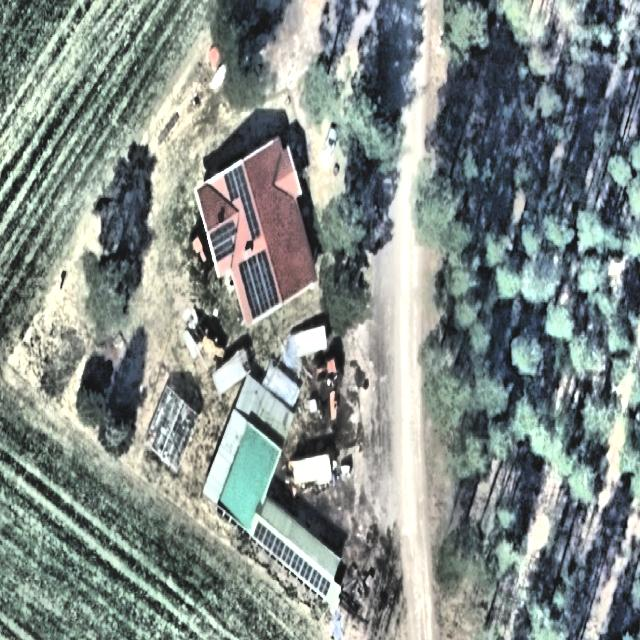roof_pv: (278, 540, 332, 602), (239, 252, 282, 322), (204, 216, 240, 264), (252, 522, 288, 558), (225, 162, 251, 206), (242, 198, 262, 246)
